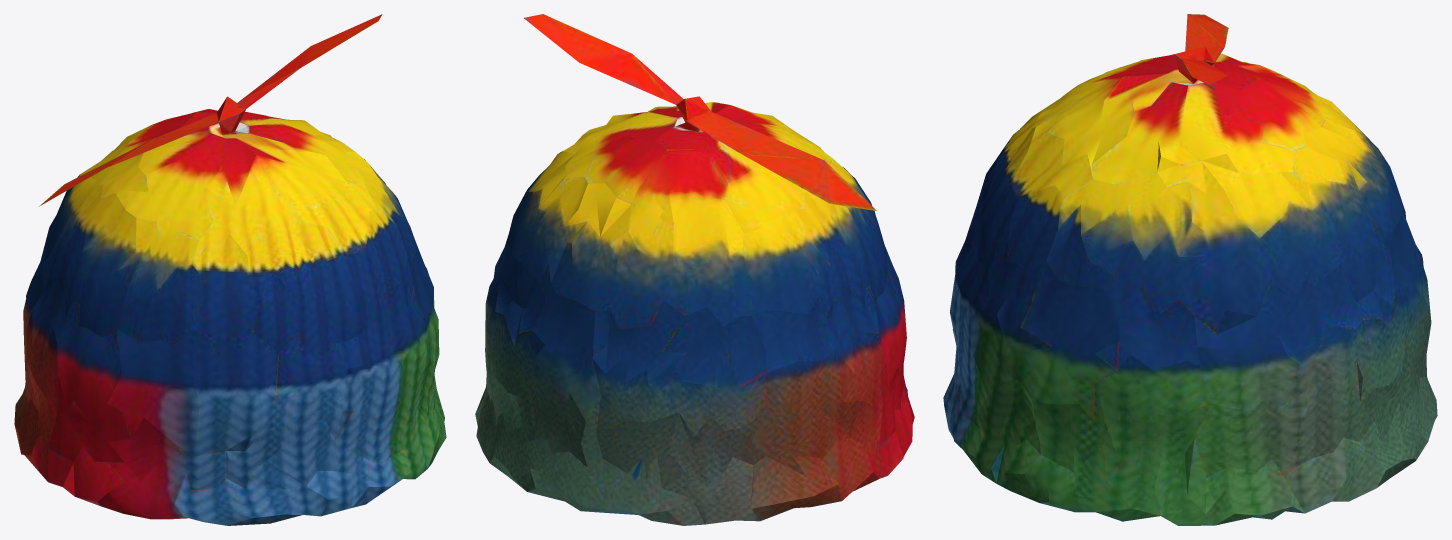
Rendered from propeller.glb.
3 views of the same model, side by side, from view 1: azimuth 30°, elevation 25°; view 2: azimuth 150°, elevation 25°; view 3: azimuth 270°, elevation 25° (orthographic). The views are drawn at different scales.
Size of the model in its own units: 1.89 by 1.82 by 1.89.
Materials: 1 (1 with a texture image).
